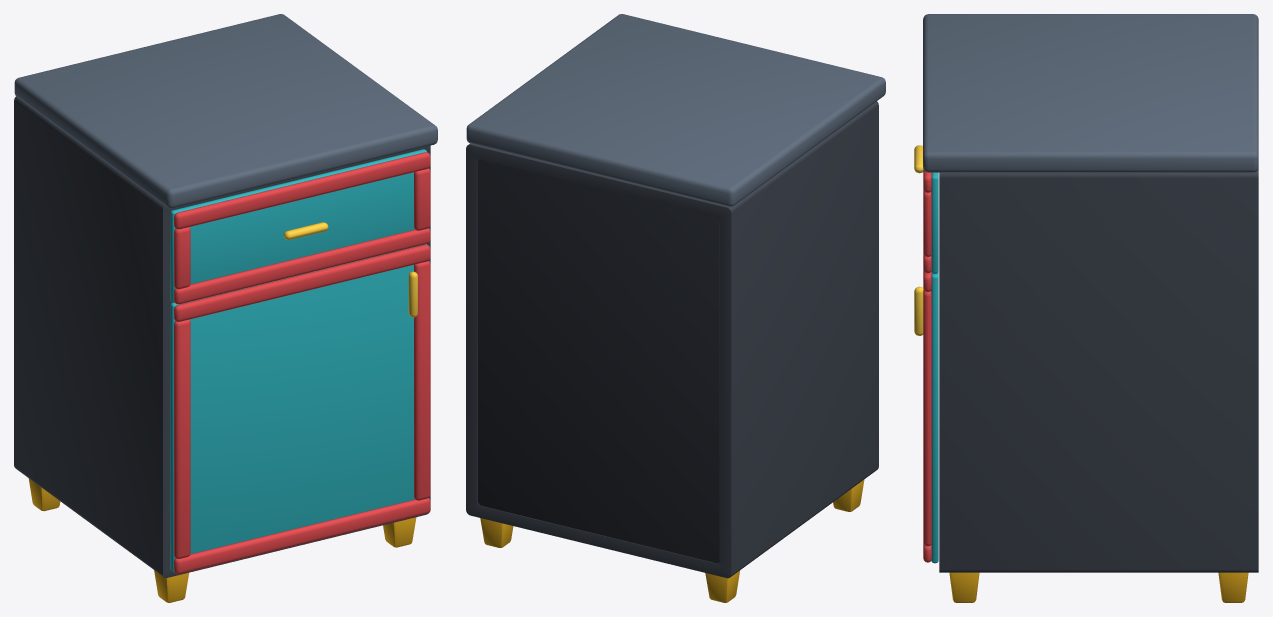
The model's file is armario_cozinha_base_gaveta_porta_grafite.glb.
The picture shows the model from 3 angles, left to right: view 1: azimuth 30°, elevation 25°; view 2: azimuth 150°, elevation 25°; view 3: azimuth 270°, elevation 25°; orthographic projection. The views are drawn at different scales.
Parts seen in each view (by area): view 1: armario_cozinha_base_gaveta_porta_grafite, porta_1, gaveta_1; view 2: armario_cozinha_base_gaveta_porta_grafite; view 3: armario_cozinha_base_gaveta_porta_grafite, porta_1, gaveta_1.
Part boxes in pixels (left/top/right/bottom): armario_cozinha_base_gaveta_porta_grafite: left=14, top=14, right=437, bottom=602; porta_1: left=170, top=244, right=430, bottom=574; gaveta_1: left=170, top=149, right=430, bottom=304; armario_cozinha_base_gaveta_porta_grafite: left=466, top=14, right=885, bottom=602; armario_cozinha_base_gaveta_porta_grafite: left=923, top=14, right=1258, bottom=602; porta_1: left=914, top=270, right=938, bottom=563; gaveta_1: left=914, top=145, right=938, bottom=273.
Bounding box in the file's own units: 0.598 × 0.9 × 0.6147.
1 material, 1 textured.
